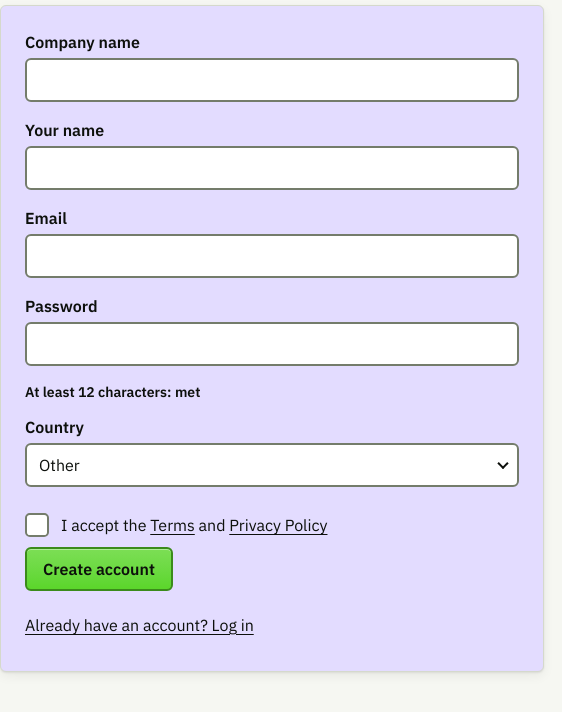
Scenario: submitting › tells the visitor to wait when sign ups are slowed down
(page scrolled)
Step 1. Click the button "Create account" → [99, 569], box [25, 547, 173, 591]
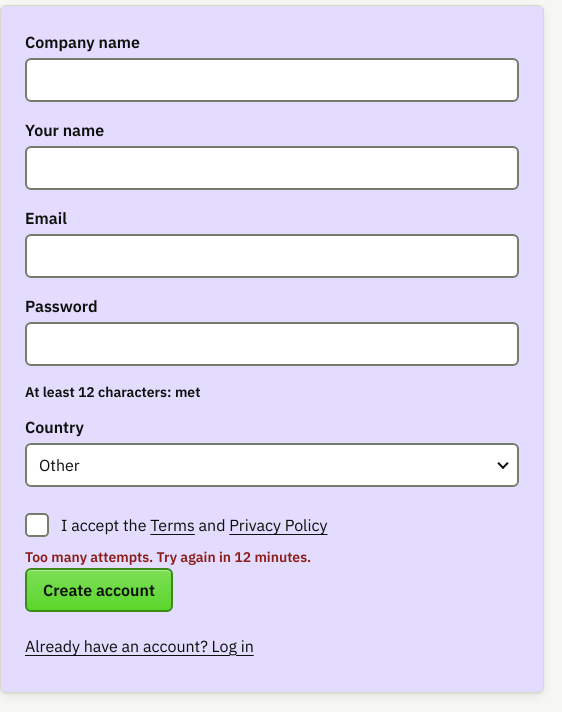
Expected: the message reads "Too many attempts. Try again in 12 minutes.", [25, 548, 311, 566]
